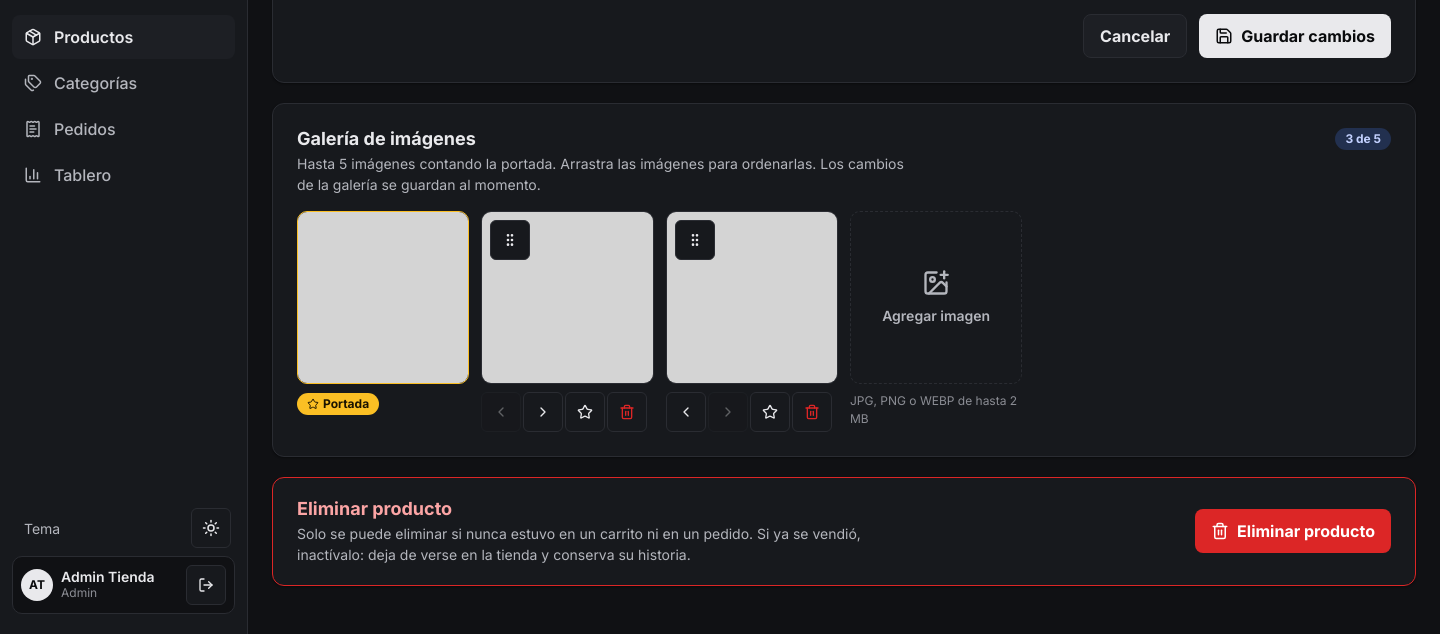
Galería en la edición › si reordenar falla, vuelve al orden anterior y muestra el error
This screenshot has width=1440, height=634.
(page scrolled)
Click the button named "Mover imagen 1 a la derecha".
click(543, 412)  # box [523, 392, 563, 432]
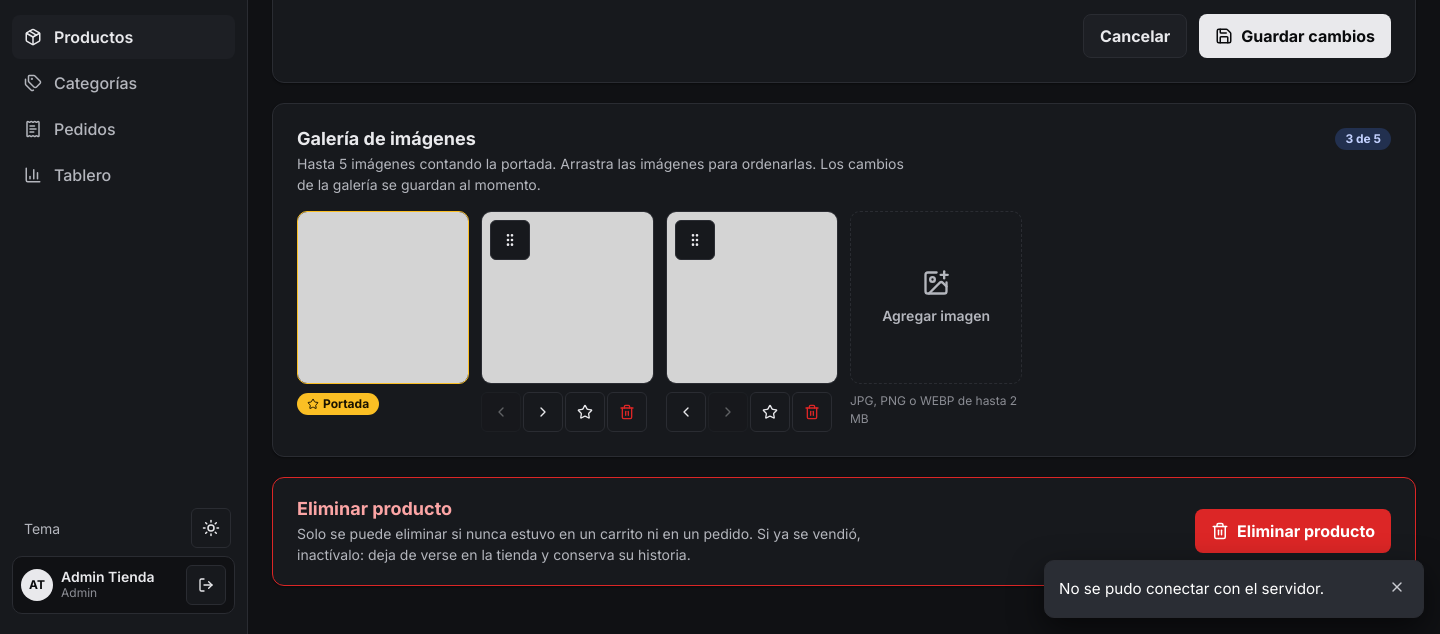
Check: the text "No se pudo conectar con el servidor." is shown, box [1059, 579, 1324, 598]
